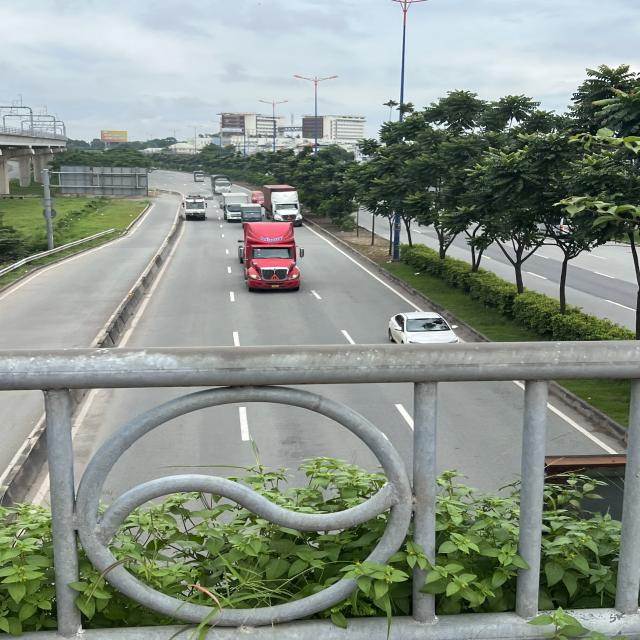car: (388, 312, 459, 344)
container: (238, 224, 304, 292), (262, 183, 302, 224)
truck: (212, 175, 232, 193), (193, 171, 205, 183)
